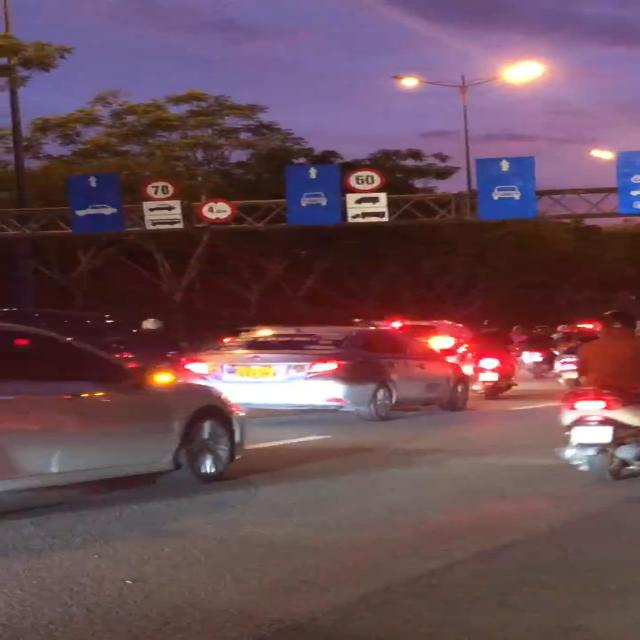Bien bao toc do toi da cho phep: (133, 178, 180, 202), (340, 168, 386, 192)
